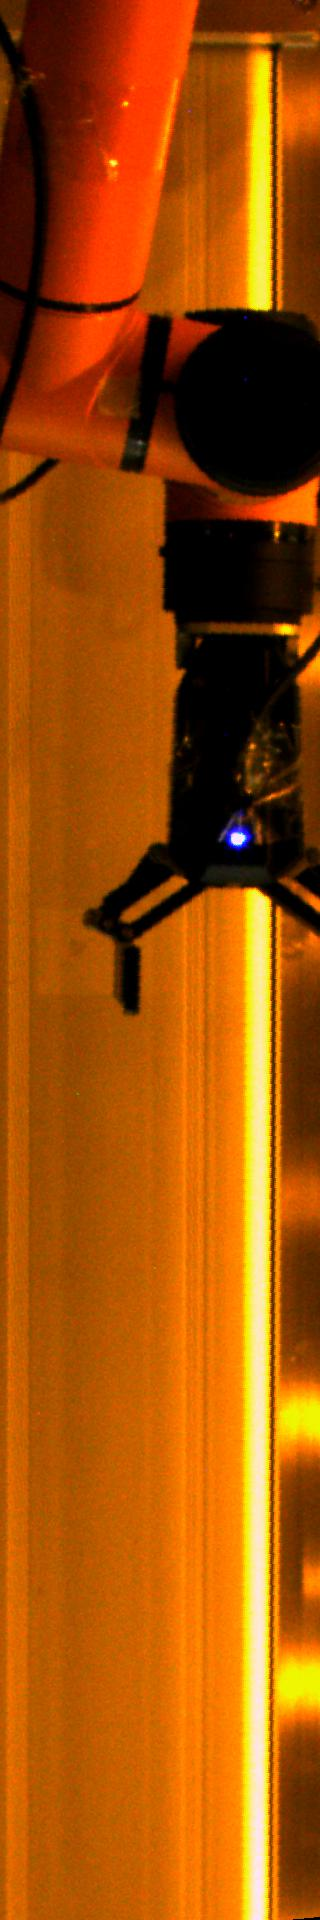keyPoint_1: (223, 822, 253, 852)
